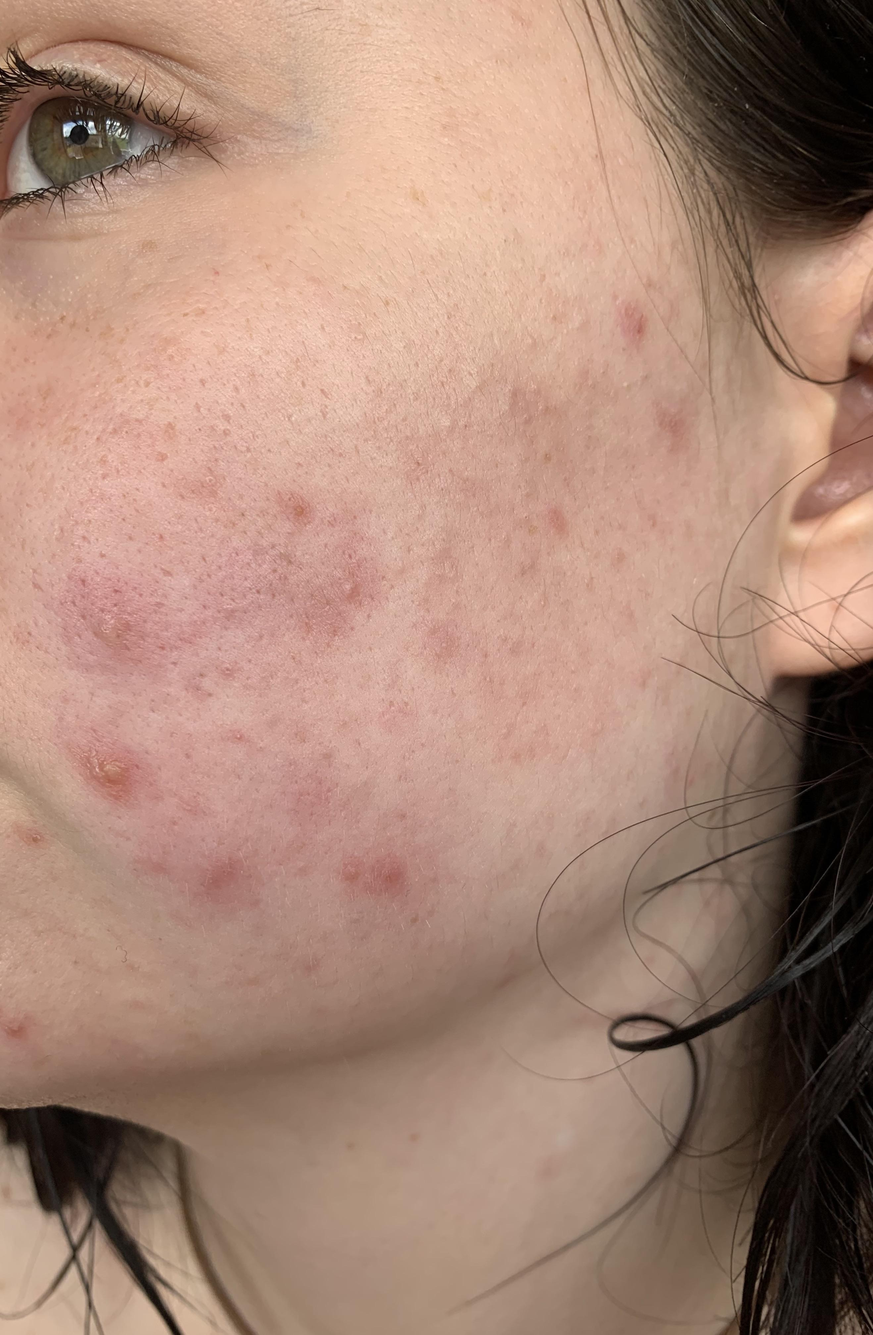Acne: (51, 300, 708, 933)
